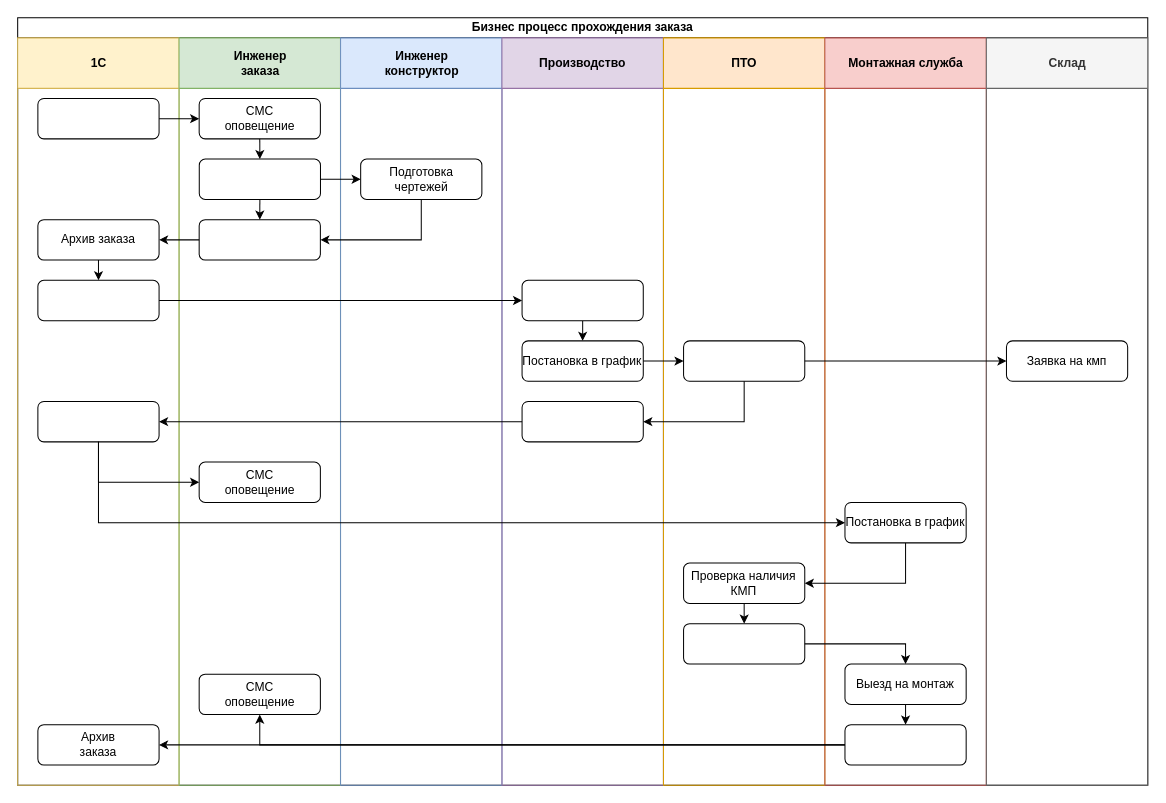
Image size: 1166x803. Some labels were removed from this diagram. Each missing label, with the centre of its shape:
Email оповещение: pixel 582 300
Акт выполненных работ: pixel 905 744
В работу: pixel 582 421
Новый заказ: pixel 98 118
Отметка о готовности: pixel 98 421
Подготовка тех.задания: pixel 259 178
Проверка готовности объекта: pixel 744 643
Проверка документации: pixel 744 360
Проверка чертежей: pixel 259 239
Свод запусков: pixel 98 300
